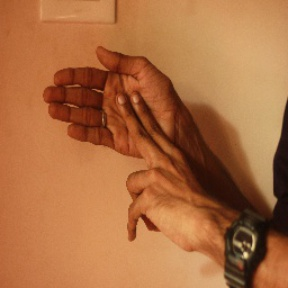N: (38, 37, 201, 237)
